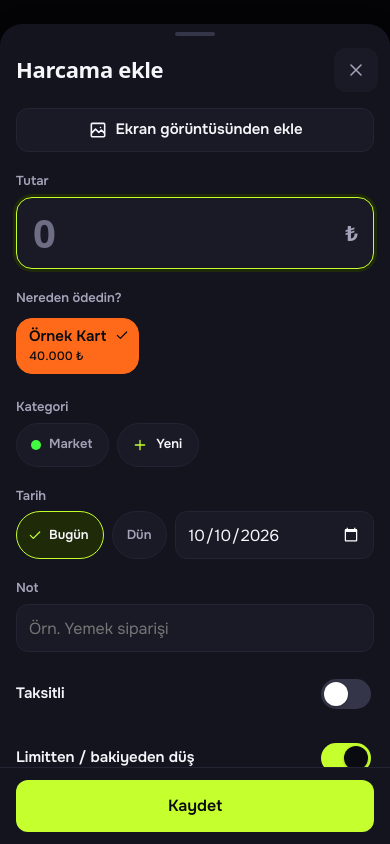
Test: ExpenseSheet validation › asks for an amount and a category, and saves nothing
What coordinates should you click on to do the following:
click the button "Kaydet"
I would click on:
 (195, 806)
Its box is [16,780,374,832].
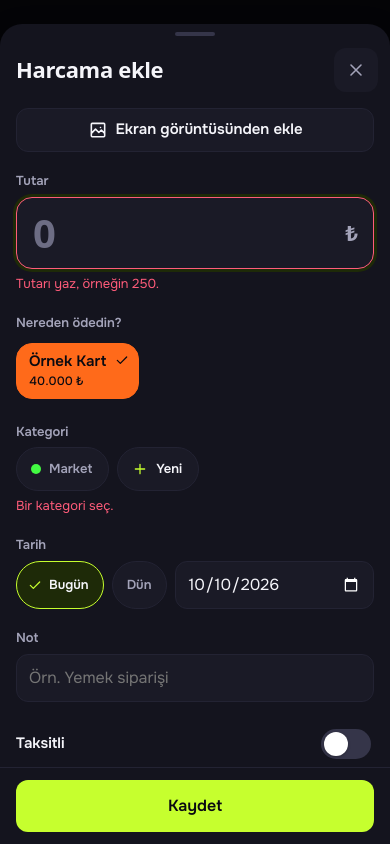
Now the text "Tutarı yaz, örneğin 250." is shown, box [16,275,159,292]
Now the text "Bir kategori seç." is shown, box [16,497,114,514]
